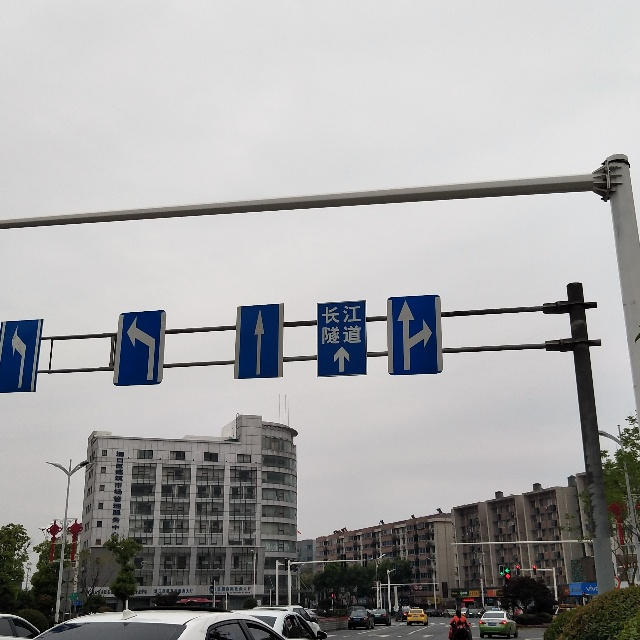left: (115, 311, 162, 380), (5, 320, 33, 383)
straight: (242, 302, 274, 378)
